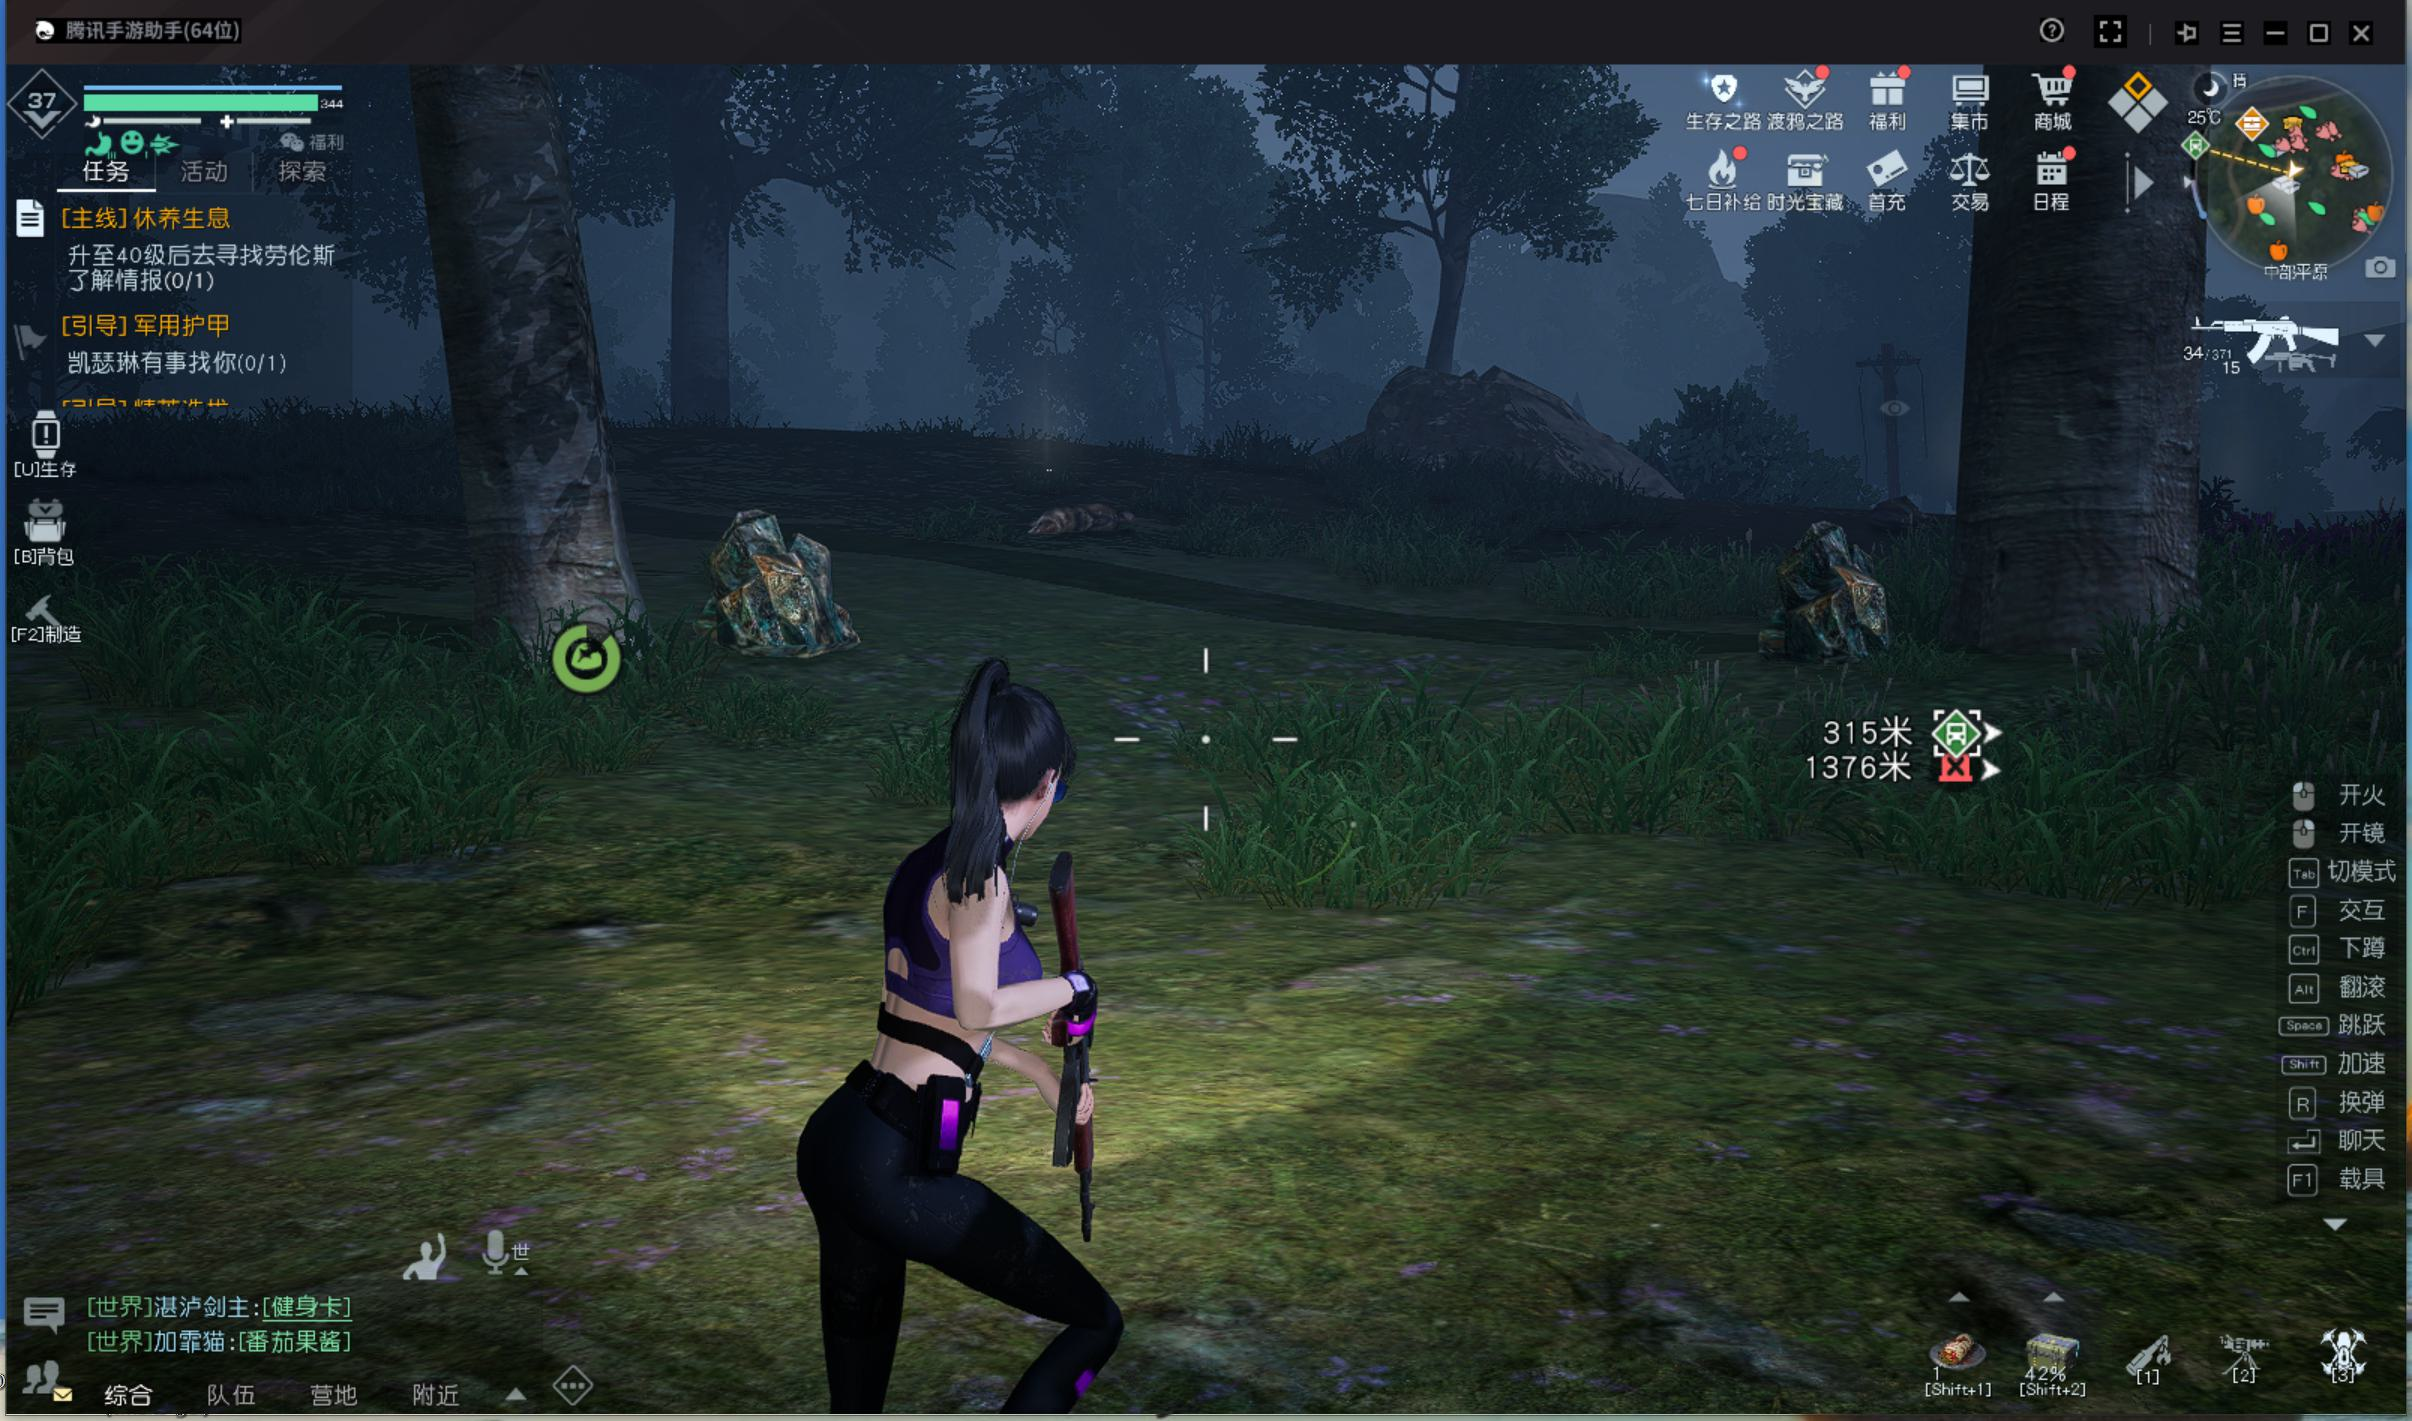stone: (1744, 502, 1905, 692), (682, 501, 852, 663)
tree: (1955, 269, 2239, 695), (406, 154, 638, 668), (656, 206, 753, 457), (1411, 210, 1475, 403)
